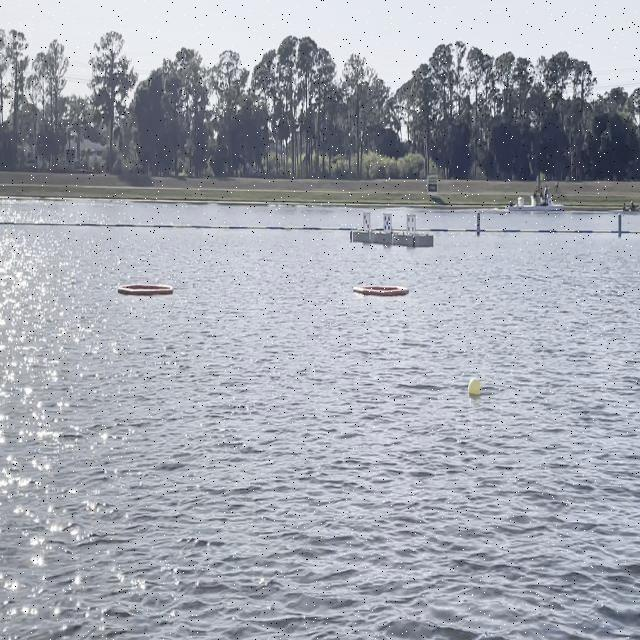buoy: (466, 371, 484, 402)
